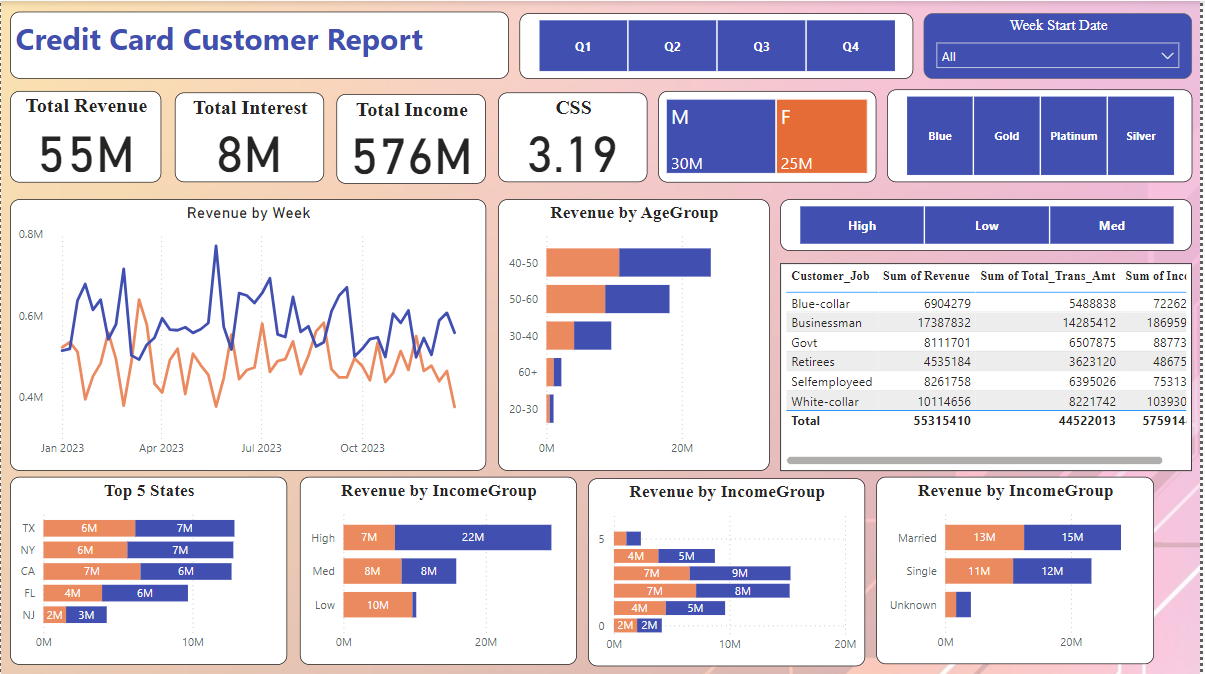

The page's visual inventory and layout, read from the dashboard file:
{"tool":"powerbi","page":{"name":"Credit Card Customer Report","canvas":[1280,720],"ordinal":0},"visuals":[{"type":"slicer","fields":{"Values":["credit_card.Qtr"]},"box":[553.5,13,420,70],"z":0},{"type":"textbox","box":[9.8,11.4,532.4,71.6],"z":1000},{"type":"slicer","title":"Week Start Date","fields":{"Values":["credit_card.Week_Start_Date"]},"box":[985,13,286.5,70],"z":2000},{"type":"slicer","fields":{"Values":["credit_card.Card_Category"]},"box":[945.9,94.4,325.6,99.3],"z":3000},{"type":"treemap","fields":{"Group":["customer.Gender"],"Values":["Sum(credit_card.Revenue)"]},"box":[701.7,96.1,232.8,97.7],"z":4000},{"type":"barChart","title":"Revenue by AgeGroup","fields":{"Y":["Sum(credit_card.Revenue)"],"Category":["customer.AgeGroup"],"Series":["customer.Gender"]},"box":[530.7,211.6,289.8,289.8],"z":5000},{"type":"lineChart","title":"Revenue by Week","fields":{"Y":["Sum(credit_card.Revenue)"],"Series":["customer.Gender"],"Category":["credit_card.Week_Start_Date"]},"box":[9.8,211.6,507.9,289.8],"z":6000},{"type":"barChart","title":"Revenue by IncomeGroup","fields":{"Category":["customer.IncomeGroup"],"Y":["Sum(credit_card.Revenue)"],"Series":["customer.Gender"]},"box":[319.2,507.9,295.8,200.5],"z":7000},{"type":"barChart","title":"Top 5 States","fields":{"Y":["Sum(credit_card.Revenue)"],"Series":["customer.Gender"],"Category":["customer.state_cd"]},"box":[9.7,507.9,295.8,200.5],"z":8000},{"type":"barChart","title":"Revenue by IncomeGroup","fields":{"Category":["customer.Dependent_Count"],"Y":["Sum(credit_card.Revenue)"],"Series":["customer.Gender"]},"box":[626.7,509.9,295.8,200.5],"z":9000},{"type":"barChart","title":"Revenue by IncomeGroup","fields":{"Y":["Sum(credit_card.Revenue)"],"Series":["customer.Gender"],"Category":["customer.Marital_Status"]},"box":[934.5,507.9,296.3,200.2],"z":10000},{"type":"card","title":"Total Revenue","fields":{"Values":["Sum(credit_card.Revenue)"]},"box":[9.8,96.1,161.2,97.7],"z":11000},{"type":"card","title":"Total Interest","fields":{"Values":["Sum(credit_card.Interest_Earned)"]},"box":[185.6,97.7,159.5,96.1],"z":12000},{"type":"card","title":"Total Income","fields":{"Values":["Sum(customer.Income)"]},"box":[358.2,99.3,159.5,96.1],"z":13000},{"type":"card","title":"CSS","fields":{"Values":["Avg(customer.Cust_Satisfaction_Score)"]},"box":[530.7,97.7,159.5,96.1],"z":14000},{"type":"tableEx","fields":{"Values":["customer.Customer_Job","Sum(credit_card.Revenue)","Sum(credit_card.Total_Trans_Amt)","Sum(customer.Income)"]},"box":[831.9,280,439.6,221.4],"z":15000},{"type":"slicer","fields":{"Values":["customer.IncomeGroup"]},"box":[831.9,211.6,439.6,55.4],"z":16000}]}

Visuals, with their boxes in screenshot pixels (x1, y1, x2, y2), scaled from the page's 1280x720 canvas onto the 1205x674 screenshot:
slicer - credit_card.Qtr: bbox(521, 12, 916, 78)
textbox: bbox(9, 11, 510, 78)
"Week Start Date" slicer: bbox(927, 12, 1197, 78)
slicer - credit_card.Card_Category: bbox(890, 88, 1197, 181)
treemap - customer.Gender x Sum(credit_card.Revenue): bbox(661, 90, 880, 181)
"Revenue by AgeGroup" barChart: bbox(500, 198, 772, 469)
"Revenue by Week" lineChart: bbox(9, 198, 487, 469)
"Revenue by IncomeGroup" barChart: bbox(300, 475, 579, 663)
"Top 5 States" barChart: bbox(9, 475, 288, 663)
"Revenue by IncomeGroup" barChart: bbox(590, 477, 868, 665)
"Revenue by IncomeGroup" barChart: bbox(880, 475, 1159, 663)
"Total Revenue" card: bbox(9, 90, 161, 181)
"Total Interest" card: bbox(175, 91, 325, 181)
"Total Income" card: bbox(337, 93, 487, 183)
"CSS" card: bbox(500, 91, 650, 181)
tableEx - customer.Customer_Job x Sum(credit_card.Revenue): bbox(783, 262, 1197, 469)
slicer - customer.IncomeGroup: bbox(783, 198, 1197, 250)
